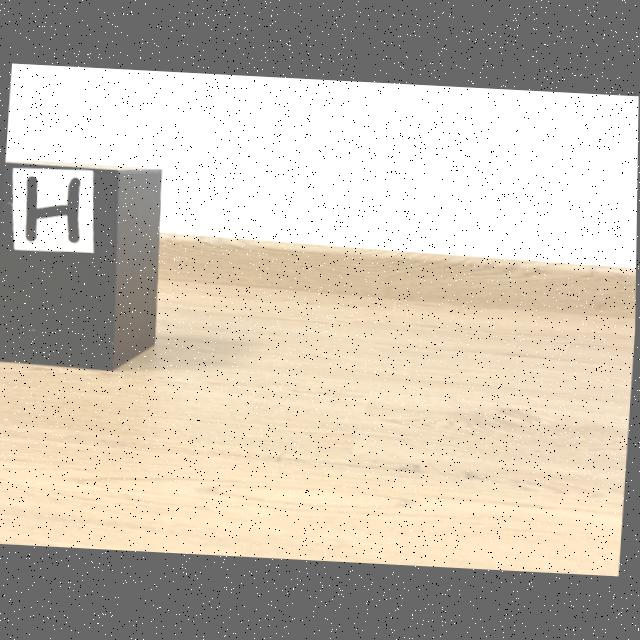H: (26, 177, 81, 243)
